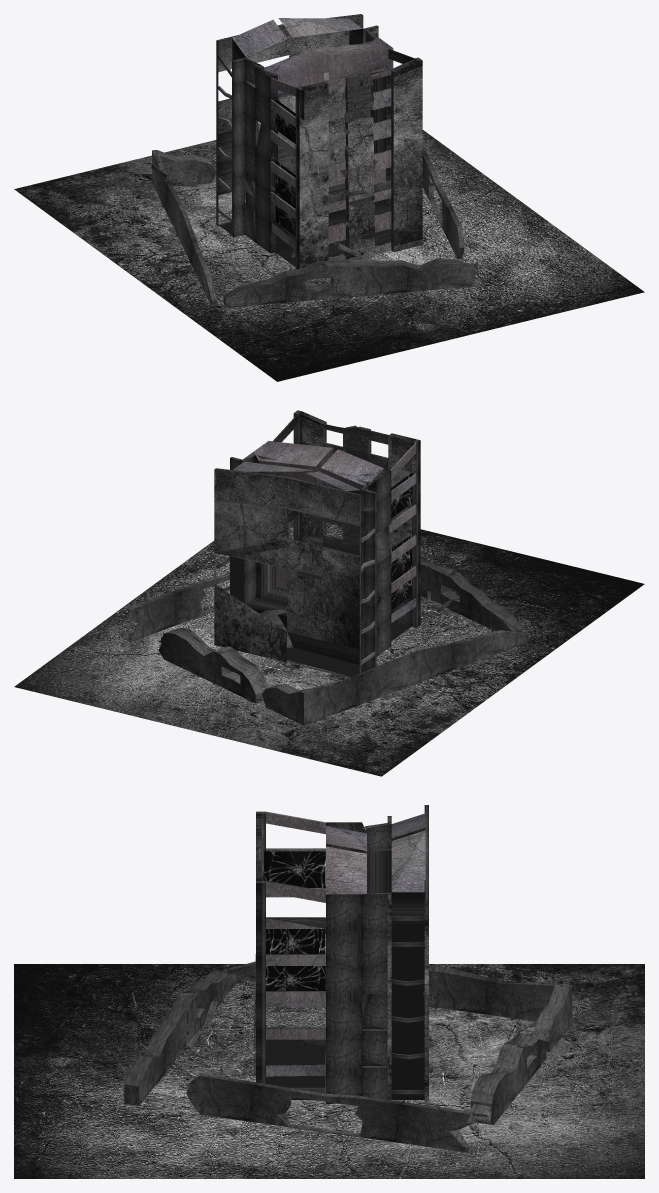
The model's file is building model.FBX.
3 views of the same model, one above another, from view 1: azimuth 30°, elevation 25°; view 2: azimuth 150°, elevation 25°; view 3: azimuth 270°, elevation 25° (orthographic). The views are drawn at different scales.
Parts seen in each view (by area): view 1: Cube, Plane001; view 2: Cube, Plane001; view 3: Plane001, Cube.
Part boxes in pixels (left/top/right/bottom): Cube: left=152, top=14, right=475, bottom=307; Plane001: left=14, top=116, right=644, bottom=381; Cube: left=127, top=410, right=528, bottom=725; Plane001: left=14, top=509, right=644, bottom=776; Plane001: left=14, top=964, right=644, bottom=1178; Cube: left=124, top=805, right=572, bottom=1152.
Bounding box in the file's own units: 151820 × 86421 × 188317.
Materials: 4 (4 with a texture image).
